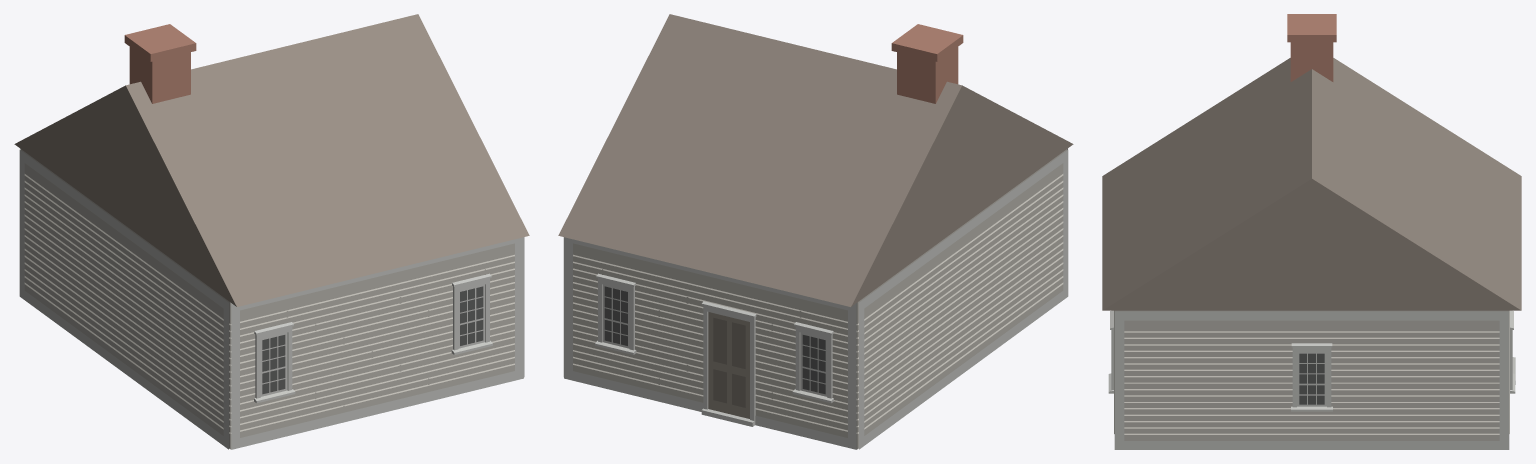
Rendered from recon_1835_blk_school_section_tier_81_d4_04__inferred_1835.glb.
The picture shows the model from 3 angles, left to right: view 1: azimuth 30°, elevation 25°; view 2: azimuth 150°, elevation 25°; view 3: azimuth 270°, elevation 25°; orthographic projection. The views are drawn at different scales.
Parts seen in each view (by area): view 1: recon_1835_blk_school_section_tier_81_d4_04__inferred_1835; view 2: recon_1835_blk_school_section_tier_81_d4_04__inferred_1835; view 3: recon_1835_blk_school_section_tier_81_d4_04__inferred_1835.
Boxes of the visible parts, box(x1,y1,x2,y2) form: recon_1835_blk_school_section_tier_81_d4_04__inferred_1835: box(14, 14, 529, 449); recon_1835_blk_school_section_tier_81_d4_04__inferred_1835: box(558, 14, 1073, 449); recon_1835_blk_school_section_tier_81_d4_04__inferred_1835: box(1102, 14, 1521, 449).
Size of the model in its own units: 6.47 by 6.7 by 8.32.
